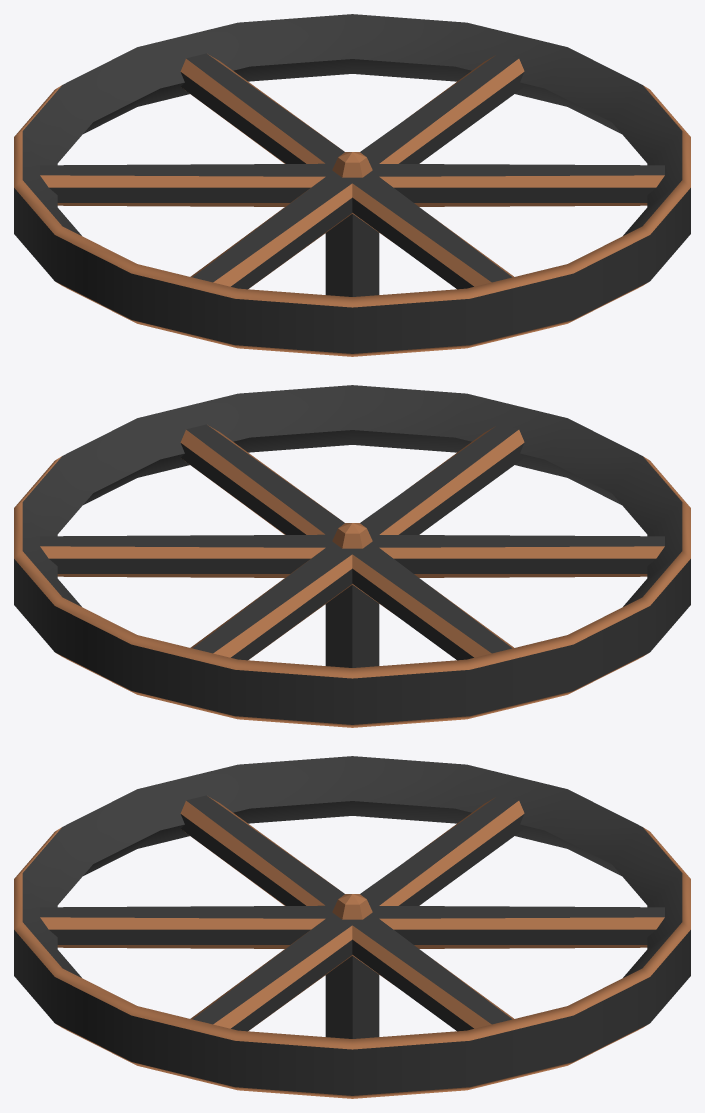
The model's file is Wheel.fbx.
The picture shows the model from 3 angles, top to bottom: view 1: azimuth 30°, elevation 25°; view 2: azimuth 150°, elevation 25°; view 3: azimuth 270°, elevation 25°; orthographic projection.
Visible parts, largest first — view 1: wheel; view 2: wheel; view 3: wheel.
Part boxes in pixels (x1,y1,x2,y2): wheel: [14, 14, 690, 356]; wheel: [14, 385, 690, 727]; wheel: [14, 756, 690, 1098].
Bounding box in the file's own units: 11.63 × 2.89 × 11.45.
